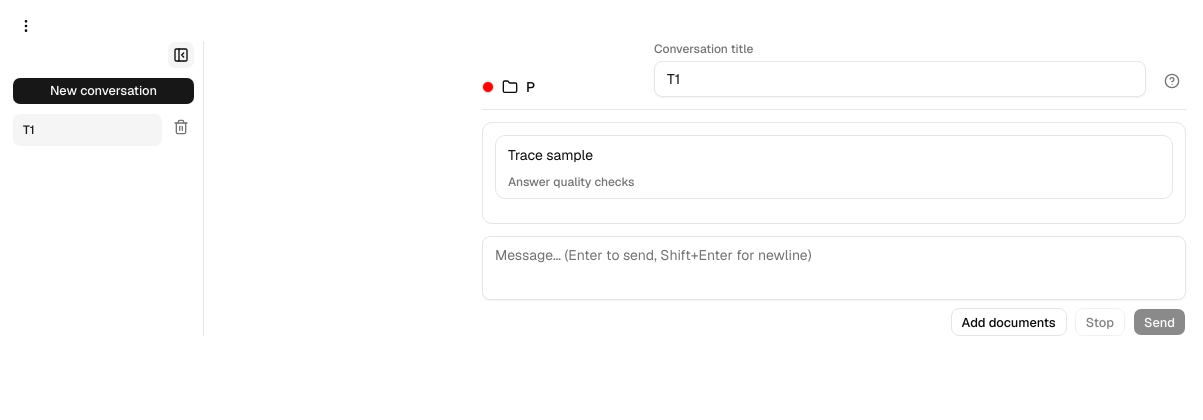
Test: ChatPage › T-M5-FE-trace: renders documentBound and date grounding metadata
Click the button "T1".
click(88, 130)  # box top-left (12, 113), bottom-right (163, 147)
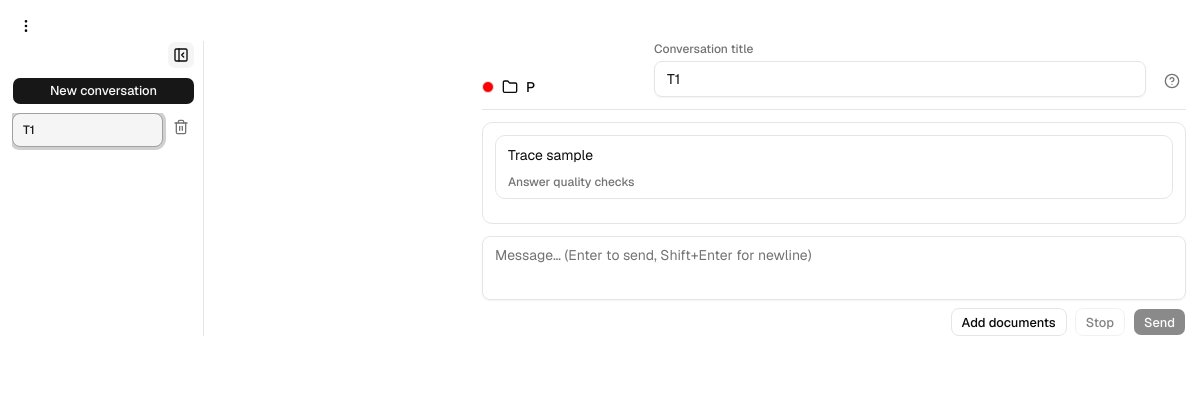
Click the heading with test id "chat-message-metadata-toggle".
click(571, 182)  # box top-left (508, 174), bottom-right (634, 190)
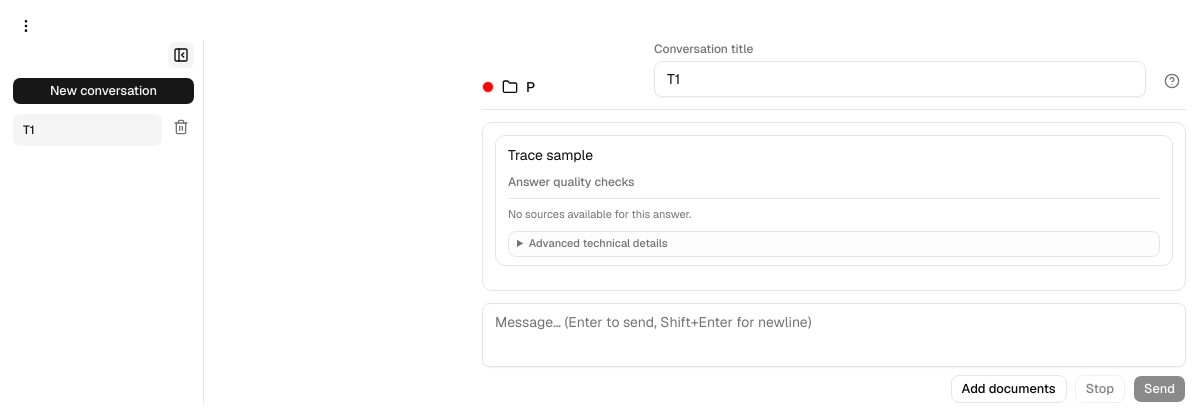
Expected: the element with test id "chat-message-metadata-panel" is shown, top-left (508, 198), bottom-right (1160, 257)
